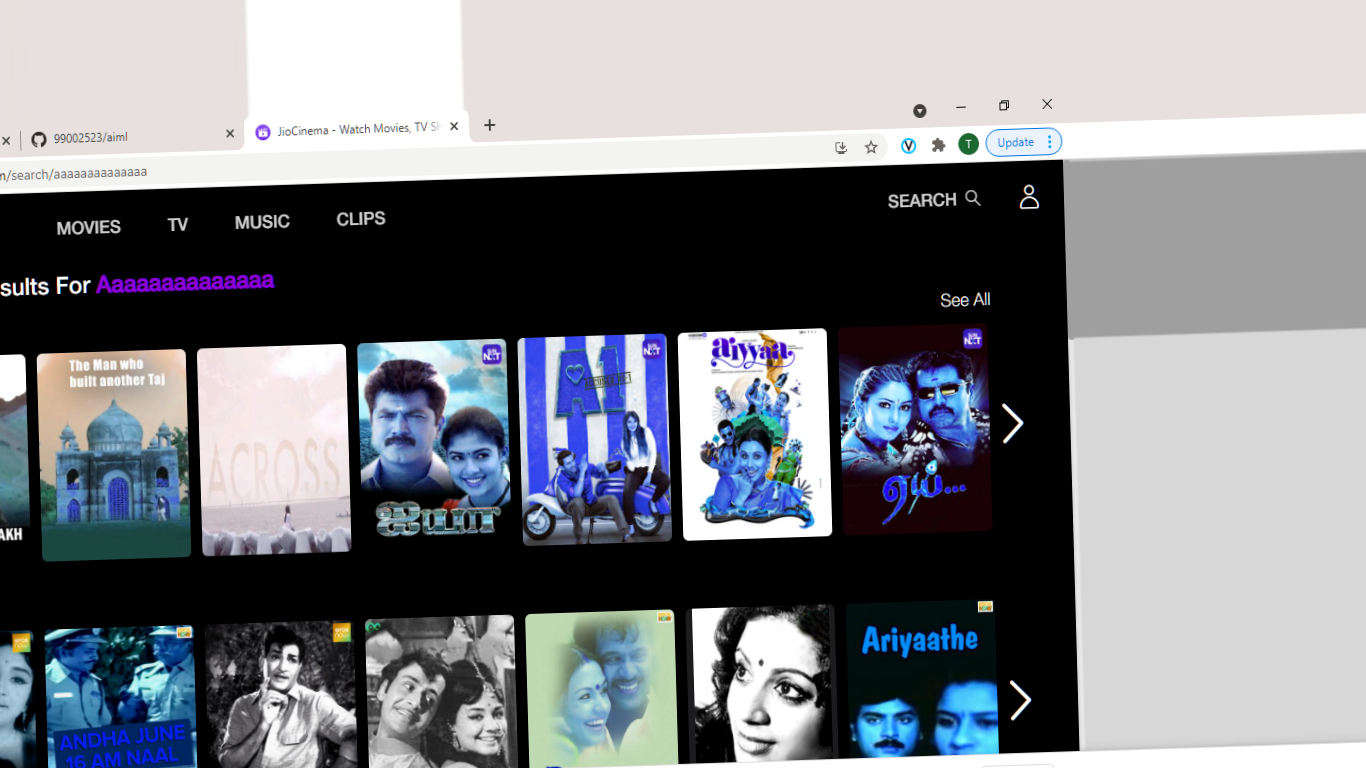noresultsfound: (1, 264, 282, 304)
profileicon: (1004, 178, 1054, 219)
searchicon: (877, 175, 984, 219)
